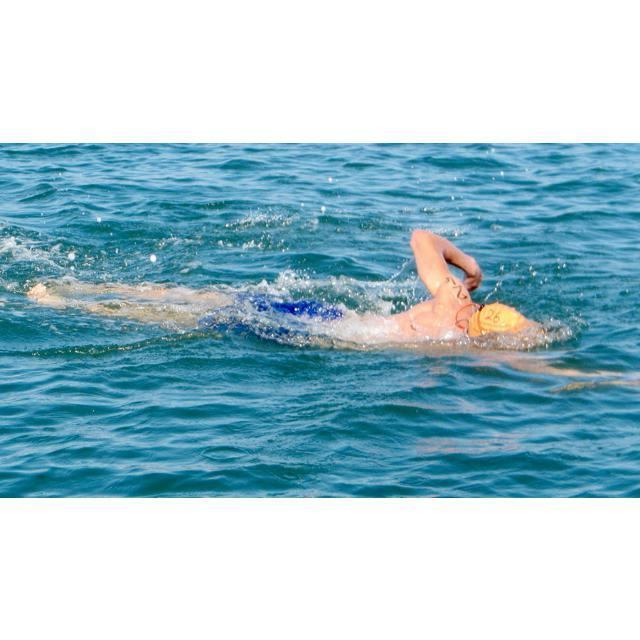human: (27, 226, 579, 372)
